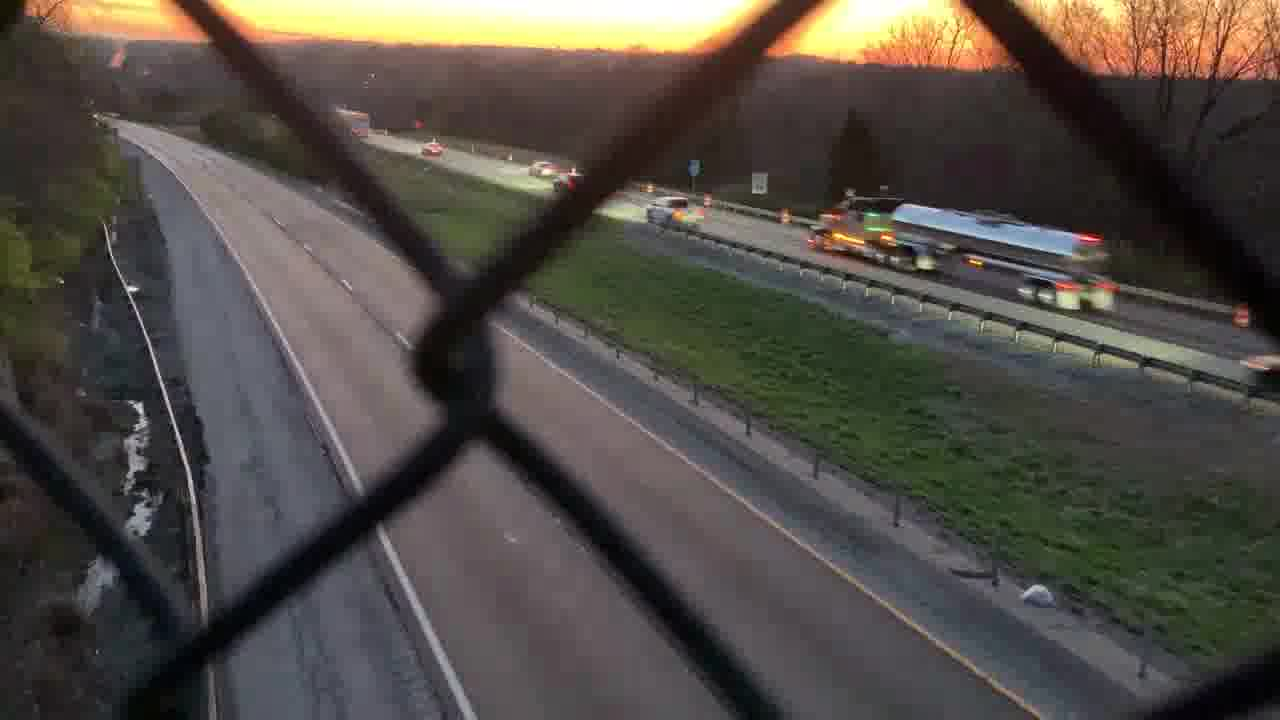heavyTruck: (804, 190, 1119, 312)
lightTruck: (644, 192, 702, 228)
